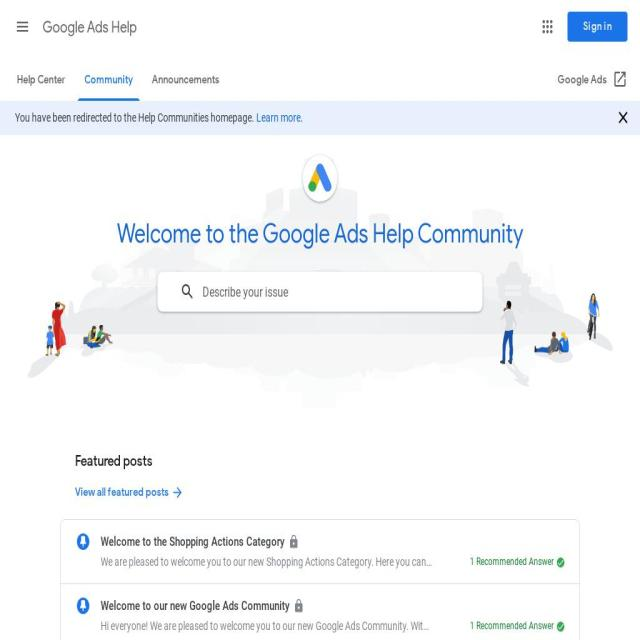button: (61, 520, 580, 584), (61, 584, 580, 640), (75, 472, 184, 512), (145, 60, 226, 100), (78, 60, 140, 101), (10, 60, 72, 100), (568, 12, 628, 42), (8, 6, 38, 46), (172, 272, 202, 312), (535, 10, 560, 43)
field: (158, 272, 482, 312)
heading: (0, 217, 640, 250), (75, 449, 153, 473), (308, 162, 332, 195)
image: (180, 272, 195, 312), (612, 69, 628, 90), (15, 16, 30, 36), (540, 16, 555, 36), (171, 484, 184, 502), (288, 534, 300, 549), (294, 598, 304, 614), (78, 599, 88, 613), (78, 535, 88, 548), (557, 558, 564, 568), (557, 622, 564, 632)
link: (42, 16, 137, 38), (256, 111, 301, 124)
text: (100, 553, 432, 570), (100, 618, 432, 634), (15, 111, 256, 124), (100, 598, 292, 614), (101, 534, 287, 549), (75, 485, 169, 499), (470, 620, 556, 632), (470, 556, 556, 567), (557, 72, 607, 86), (301, 111, 303, 124)
